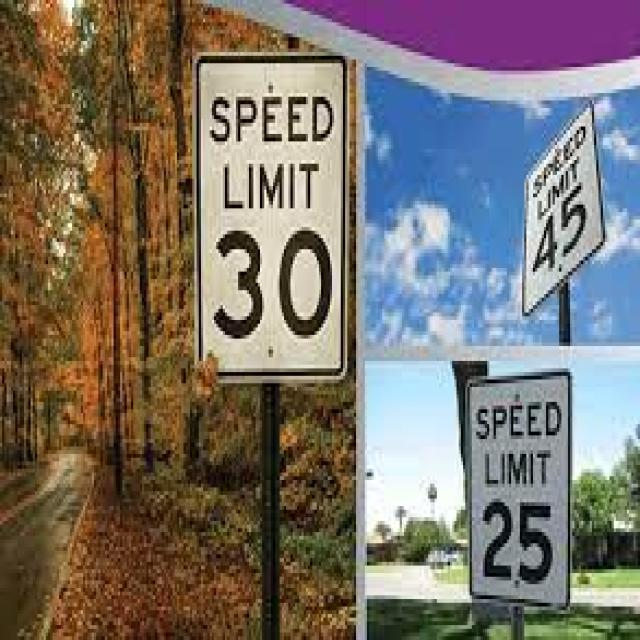speedLimit25: (466, 374, 574, 620)
speedLimit30: (196, 37, 350, 391)
speedLimit45: (522, 103, 596, 314)
